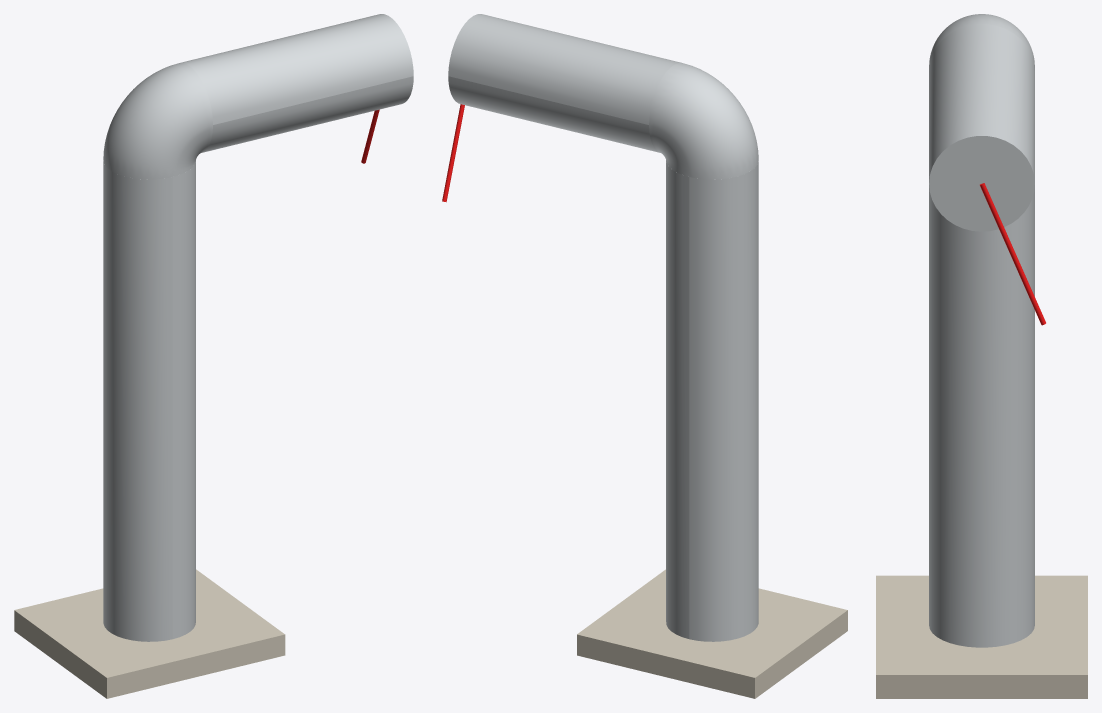
3 renders of one model, left to right at view 1: azimuth 30°, elevation 25°; view 2: azimuth 150°, elevation 25°; view 3: azimuth 270°, elevation 25°, orthographic. The views are drawn at different scales.
Parts seen in each view (by area): view 1: Part 2, Part 3, Part 1; view 2: Part 2, Part 3, Part 1; view 3: Part 2, Part 3, Part 1.
Boxes of the visible parts, <box> form: Part 2: <box>103,160,195,641</box>; Part 3: <box>103,14,413,179</box>; Part 1: <box>14,569,285,698</box>; Part 2: <box>666,161,758,641</box>; Part 3: <box>442,14,758,202</box>; Part 1: <box>577,569,847,698</box>; Part 2: <box>929,185,1034,647</box>; Part 3: <box>929,14,1045,325</box>; Part 1: <box>876,575,1087,698</box>.
Bounding box in the file's own units: 0.21 × 0.3428 × 0.1016.
